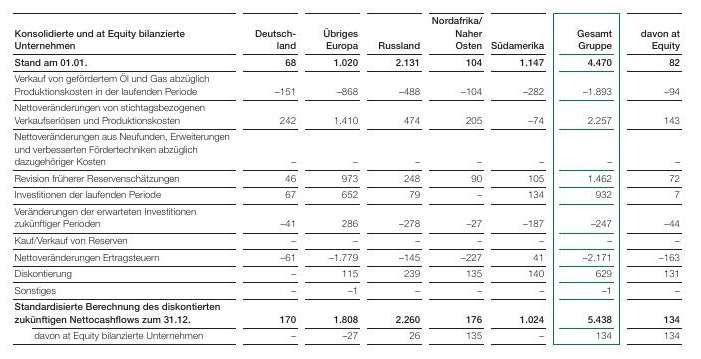table: (0, 0, 701, 359)
